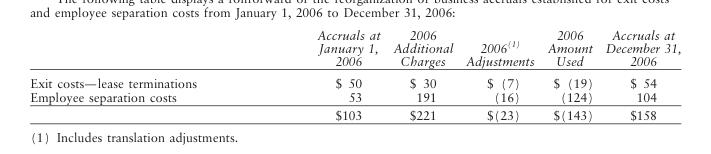table: (29, 29, 680, 122)
table column: (29, 29, 256, 122), (256, 29, 385, 122), (458, 29, 540, 122), (598, 29, 680, 122), (385, 29, 458, 122), (540, 29, 598, 122)
table column header: (29, 29, 680, 72)
table row: (29, 29, 680, 72), (29, 72, 680, 90), (29, 90, 680, 107), (29, 107, 680, 122)
